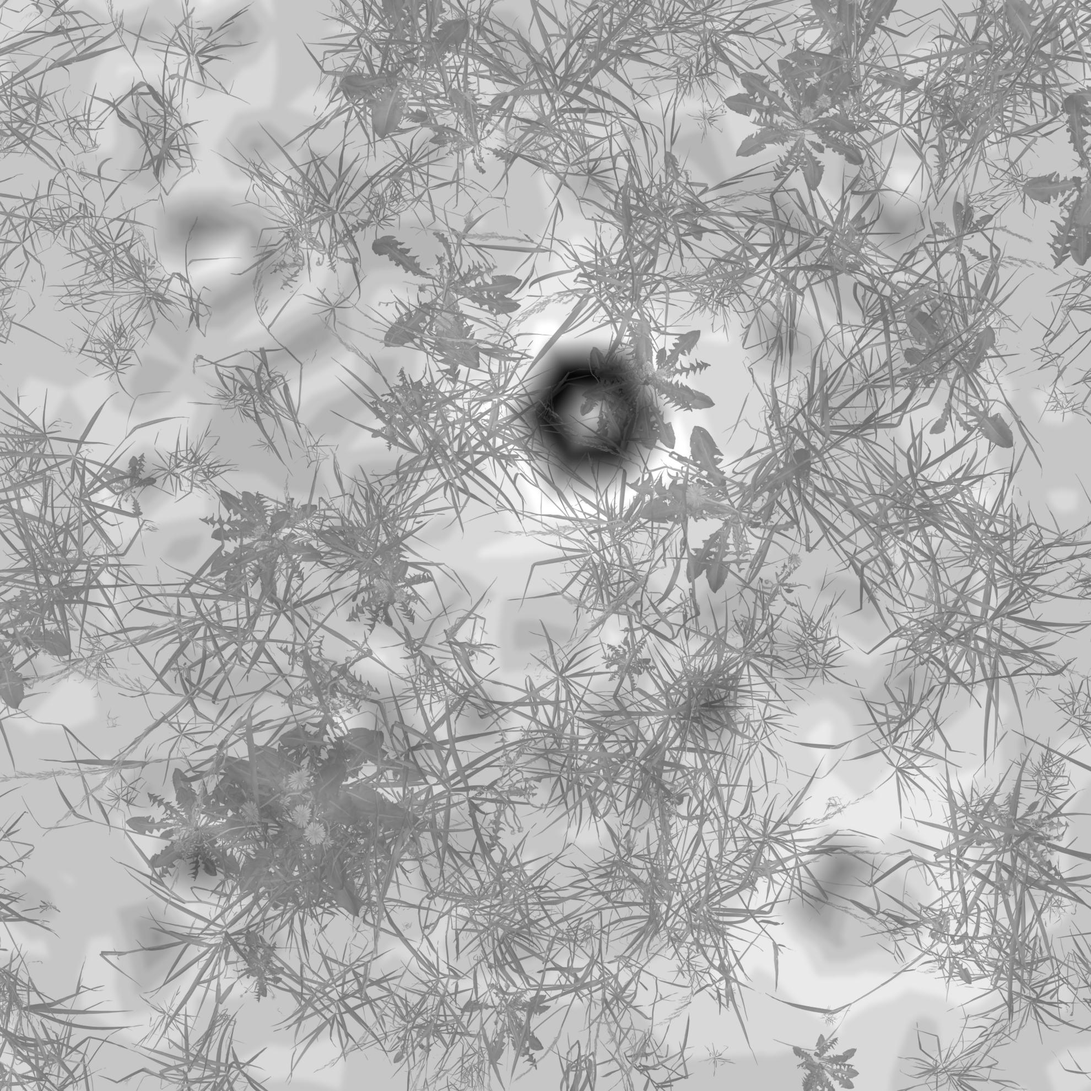landmine: (511, 333, 658, 491), (782, 824, 920, 974)
